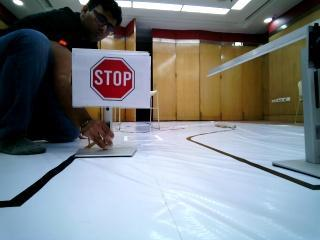stop: (85, 56, 146, 103)
